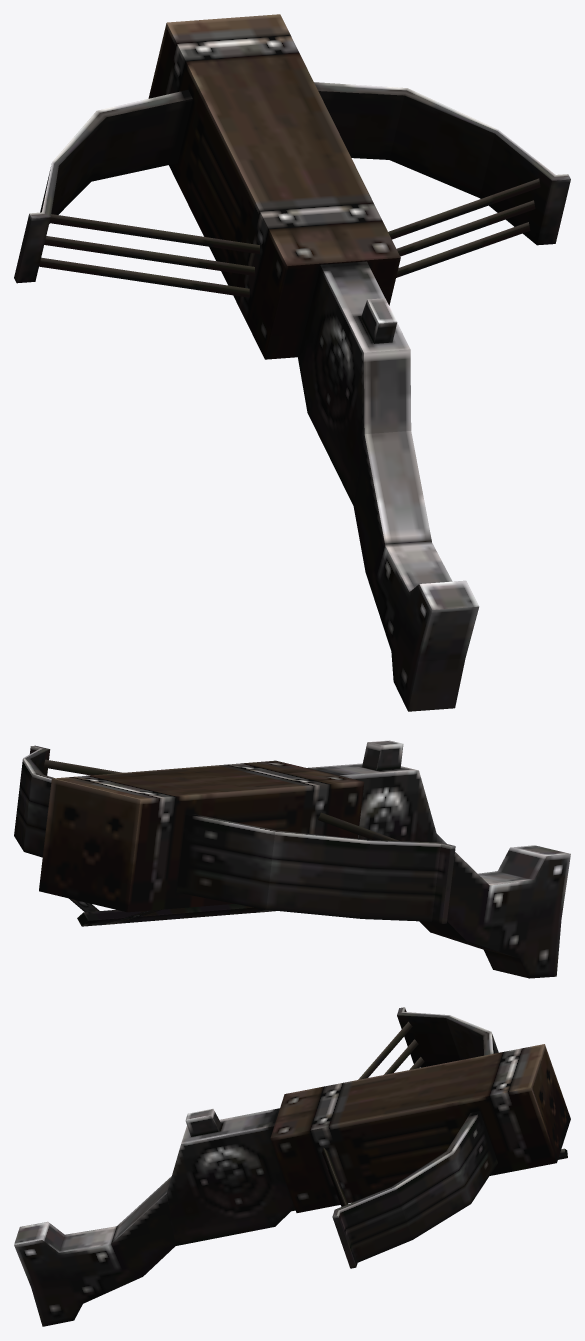
File: crossbow19_011e7400.glb
3 renders of one model, top to bottom at view 1: azimuth 30°, elevation 25°; view 2: azimuth 150°, elevation 25°; view 3: azimuth 270°, elevation 25°, orthographic. The views are drawn at different scales.
Size of the model in its own units: 0.6431 by 0.517 by 0.8602.
Materials: 1 (1 with a texture image).
